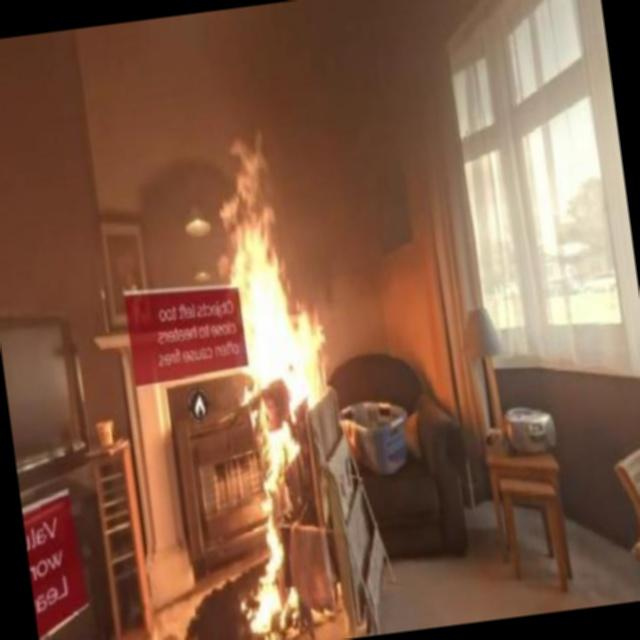fire: (218, 140, 316, 398)
